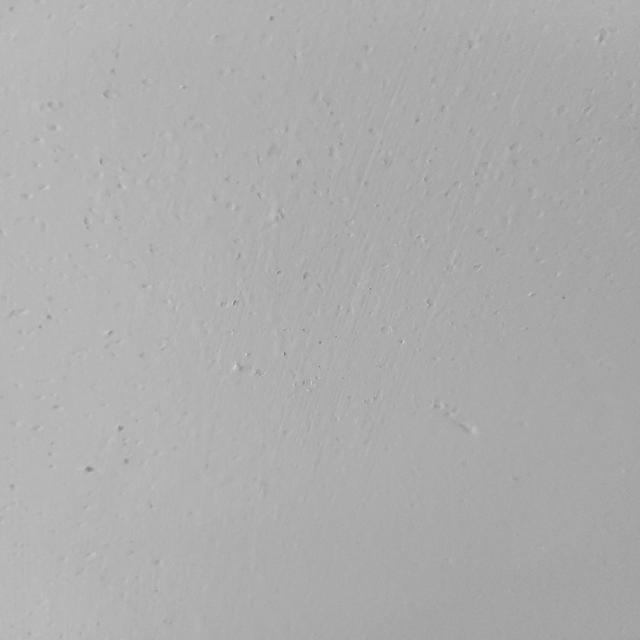rough and patchy surface: (8, 6, 640, 443), (6, 446, 253, 628)
